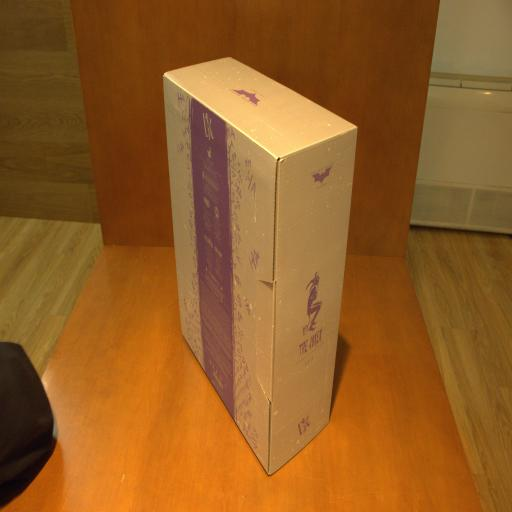Joker: (163, 53, 358, 471)
